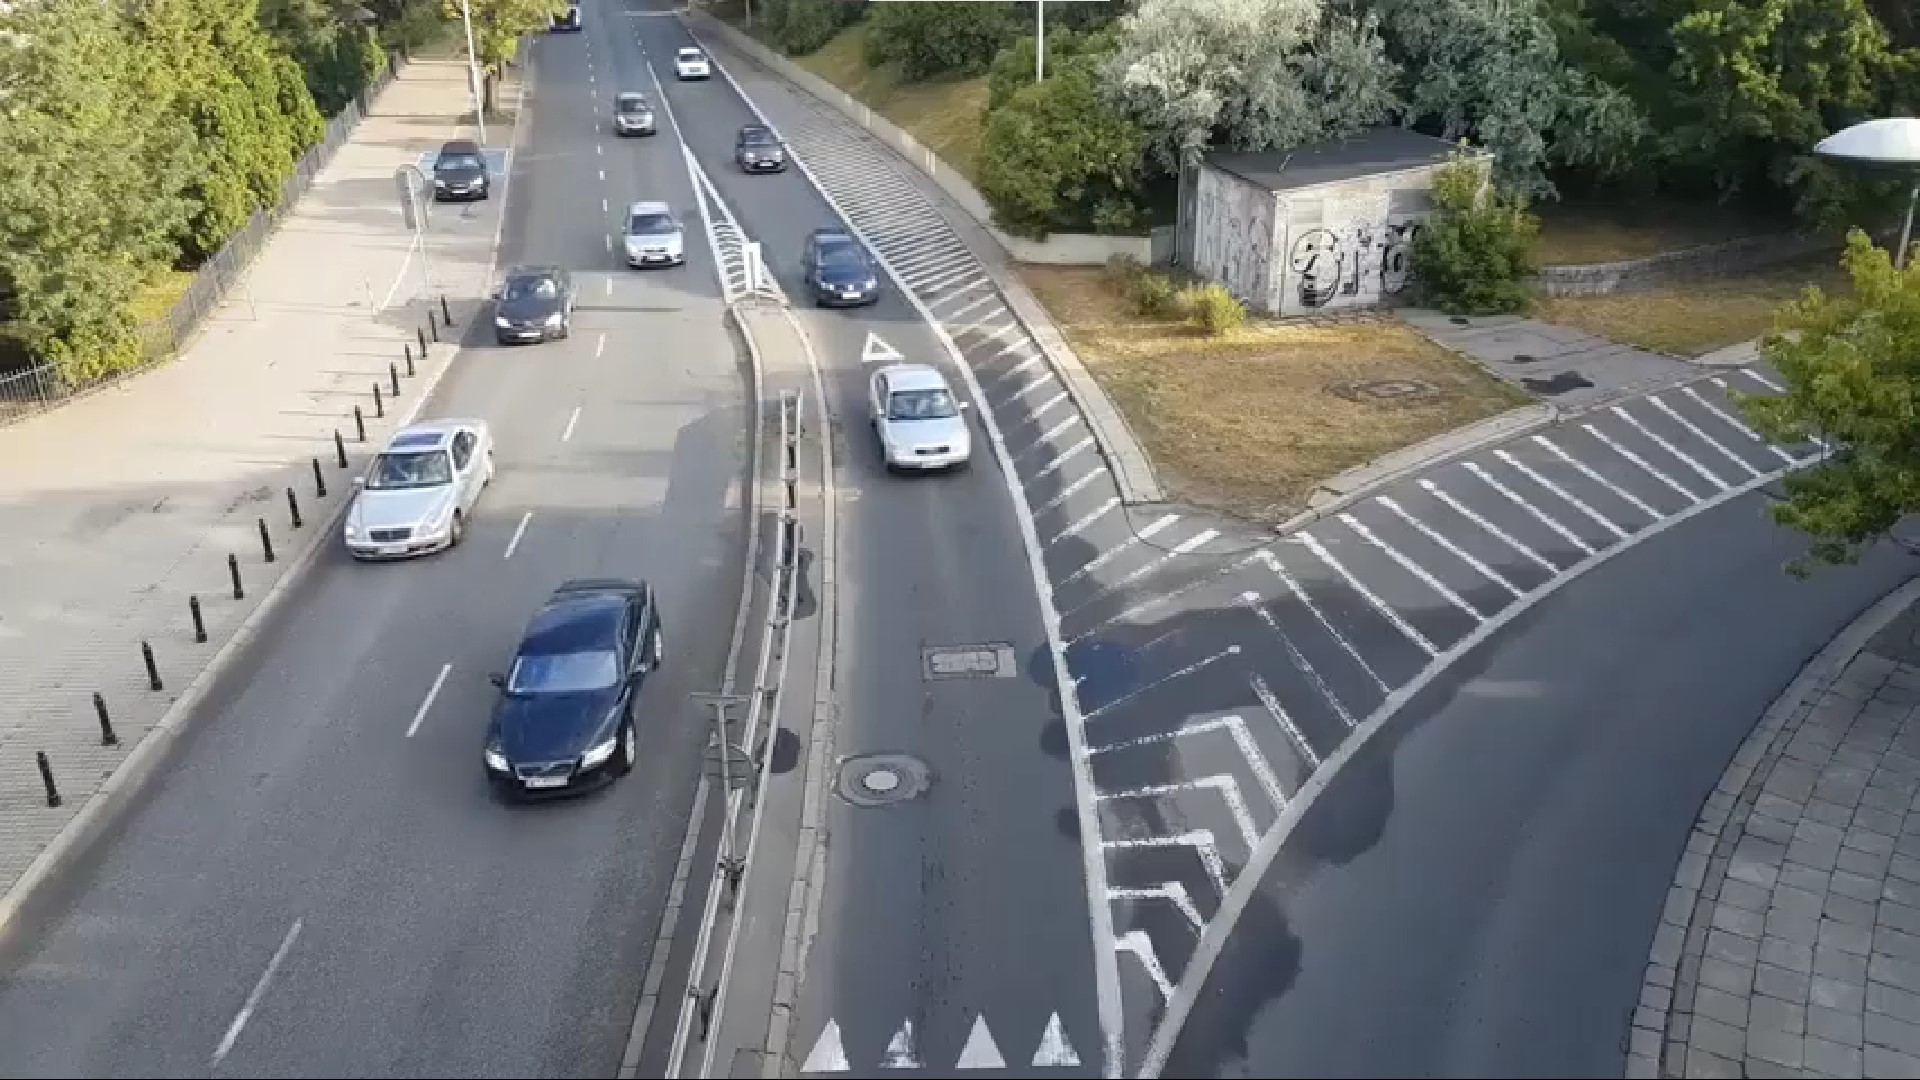mobil: (475, 576, 671, 808), (339, 417, 496, 563), (865, 361, 975, 481), (493, 261, 578, 345), (804, 224, 880, 314), (618, 195, 686, 270), (430, 137, 491, 203), (732, 117, 787, 175), (613, 88, 659, 138), (673, 46, 713, 83)
